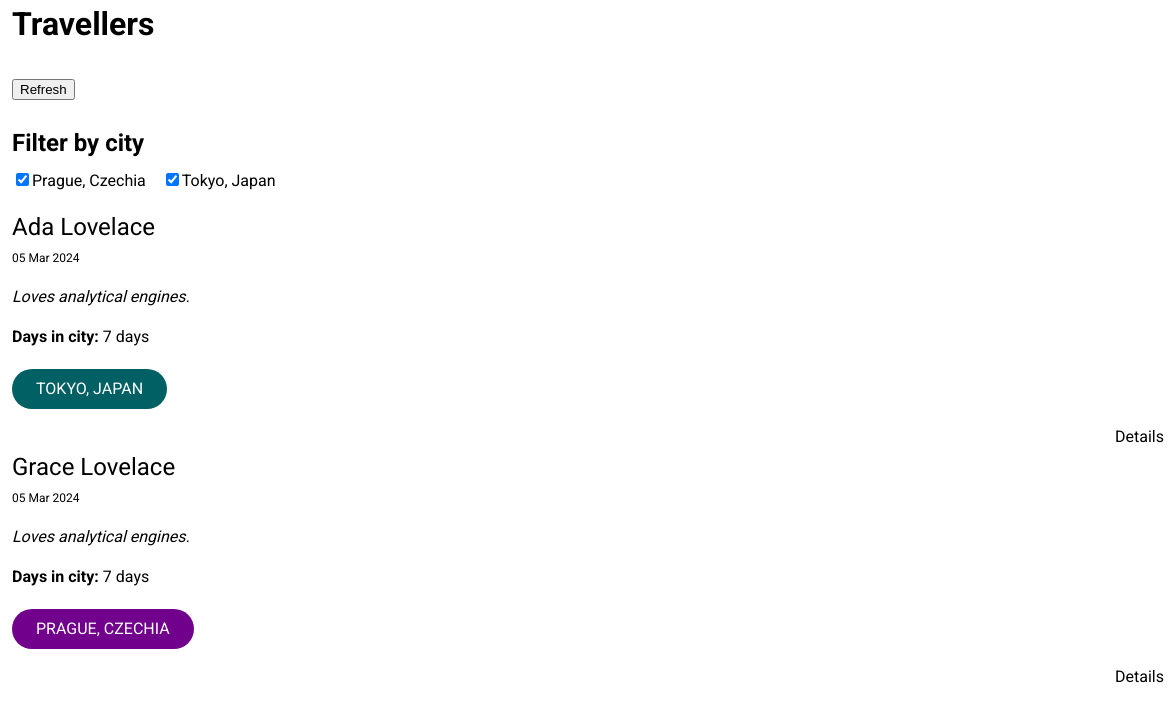
Scenario: <TravellersList /> › City filter › hides travellers from an unticked city
The image size is (1176, 720).
Click the text "Tokyo, Japan".
click(229, 181)  # box left=182, top=171, right=276, bottom=190
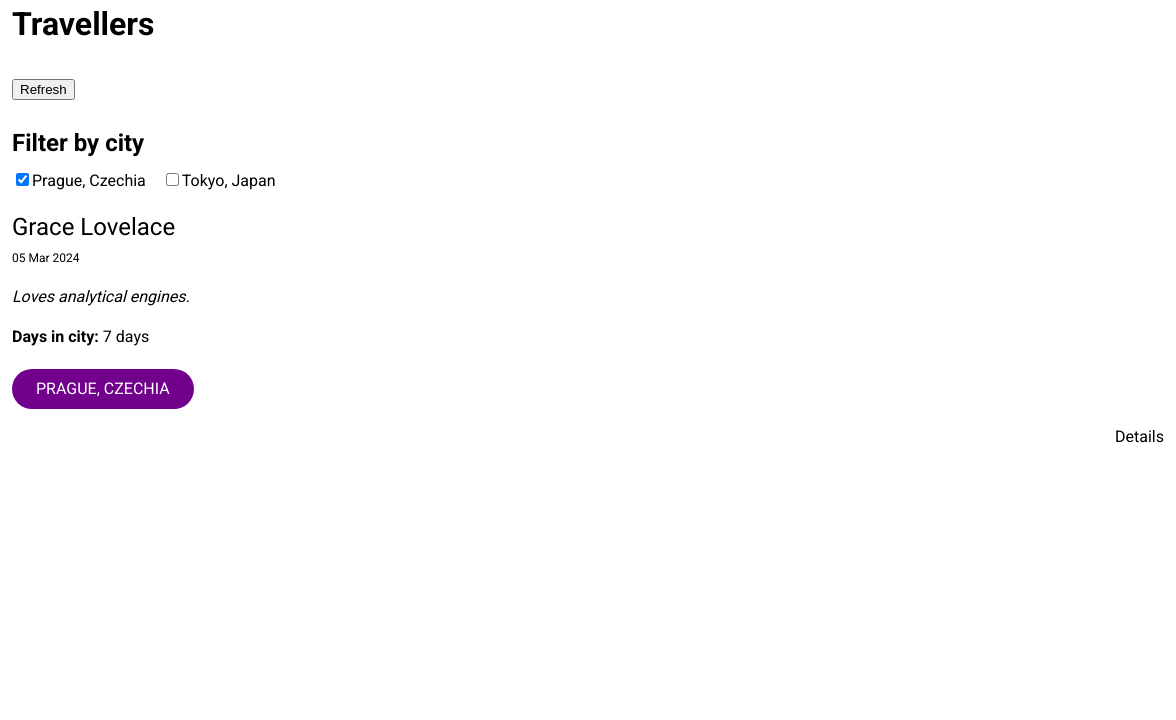
Check: the list item shows "Grace Lovelace", box left=12, top=209, right=1164, bottom=449
Check: the number of list items is 1, box left=12, top=209, right=1164, bottom=449
